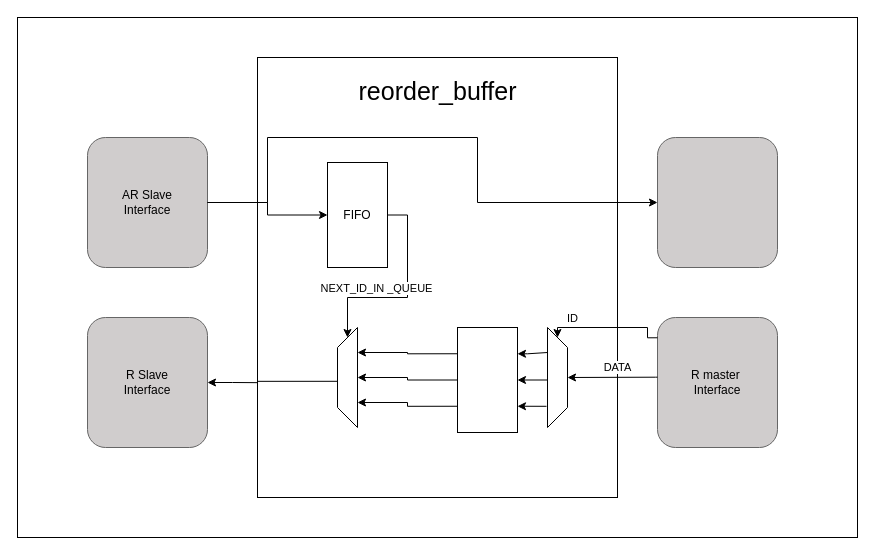
Image size: 875x555. Some labels were removed from this diagram. The shapes that lost their labels are listed below. From the top down, each one's centre as x and y in pixels, then its label:
the point at 717,202: AR master Interface
the point at 487,379: Буфер
